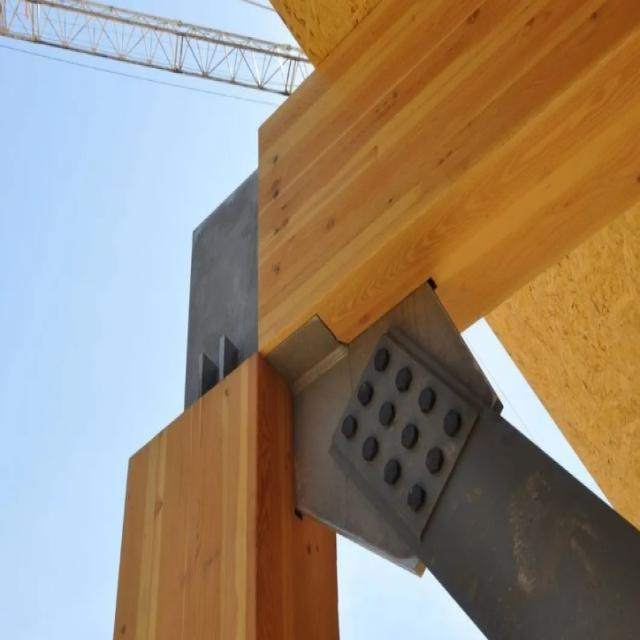blur bolt: (441, 406, 462, 438), (406, 482, 427, 514), (377, 398, 396, 429), (361, 434, 380, 464), (392, 365, 413, 392), (424, 446, 444, 474), (356, 380, 376, 408), (340, 412, 358, 442), (383, 458, 402, 486), (400, 422, 419, 449), (418, 385, 436, 413), (372, 346, 389, 372)
